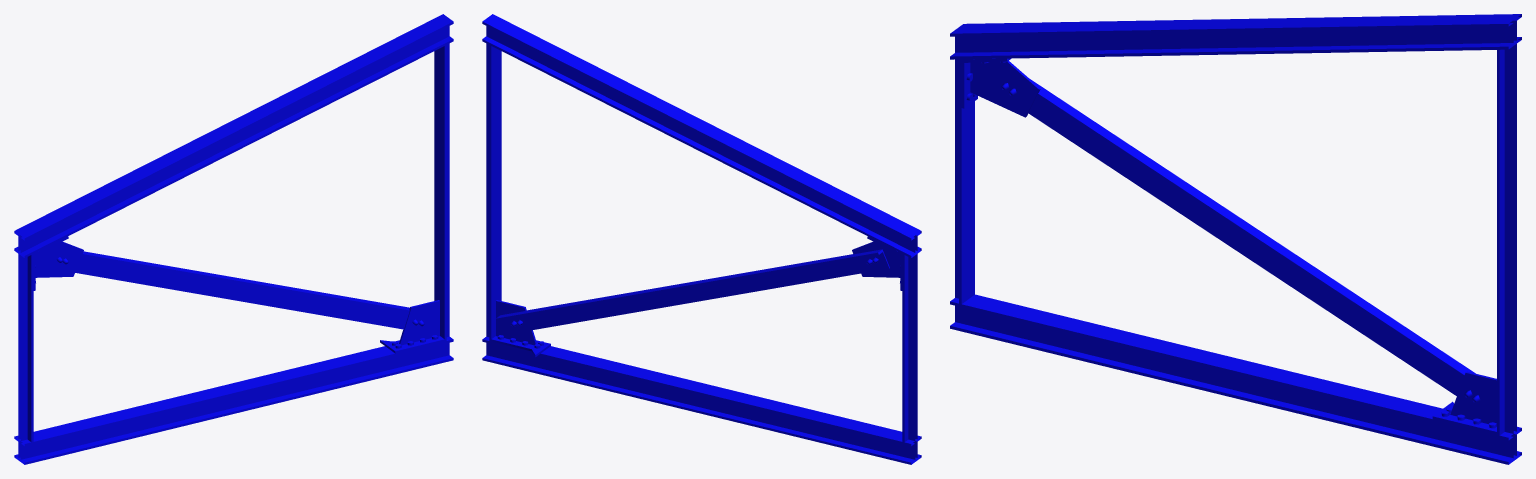
The model's file is Structure02_Roof03.fbx.
3 views of the same model, side by side, from view 1: azimuth 30°, elevation 25°; view 2: azimuth 150°, elevation 25°; view 3: azimuth 330°, elevation 25° (orthographic). The views are drawn at different scales.
Parts seen in each view (by area): view 1: Structure02_Roof03_LOD0; view 2: Structure02_Roof03_LOD0; view 3: Structure02_Roof03_LOD0.
Part boxes in pixels (<box>): Structure02_Roof03_LOD0: <box>14,14,453,464</box>; Structure02_Roof03_LOD0: <box>482,14,921,464</box>; Structure02_Roof03_LOD0: <box>950,14,1521,464</box>.
Size of what is drawn, in the model's own units: 300 by 226 by 18.75.
